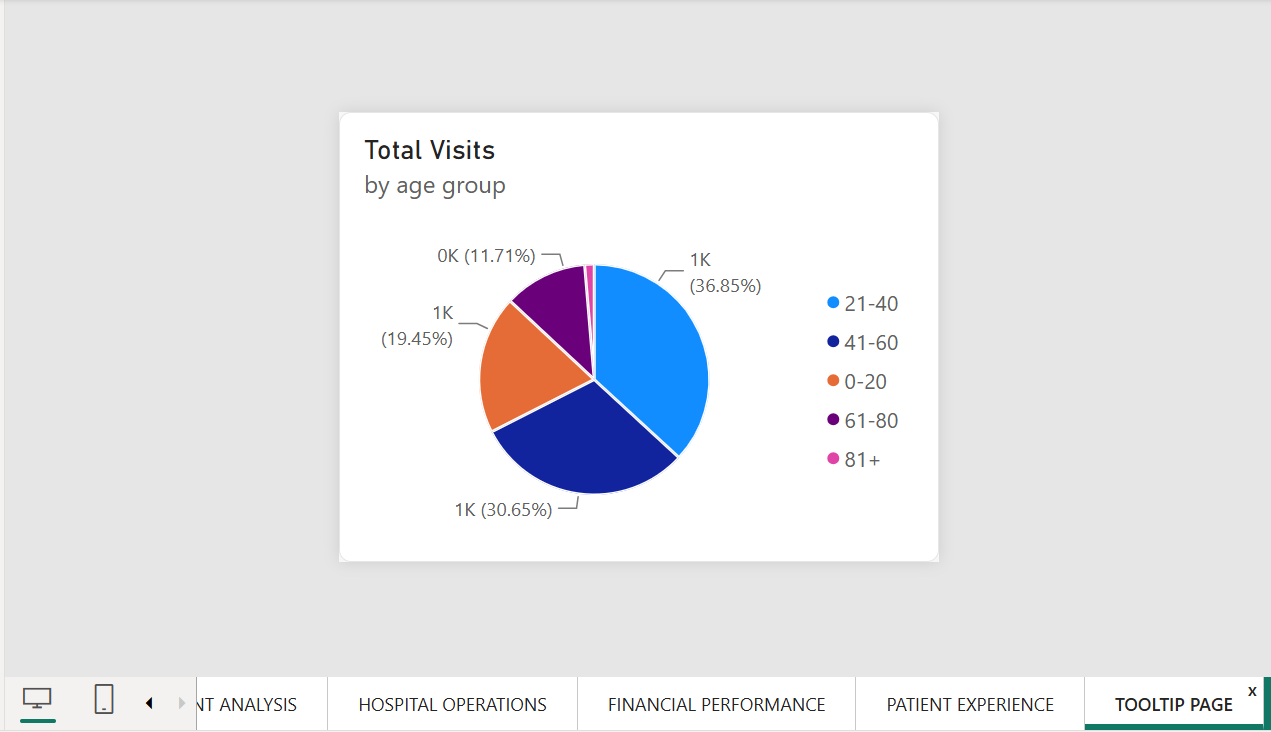

What the dashboard file says about the page in this screenshot:
{"tool":"powerbi","page":{"name":"TOOLTIP PAGE","canvas":[400,300],"ordinal":5},"visuals":[{"type":"pieChart","fields":{"Category":["Patient_Visits.age group"],"Y":["Patient_Visits.Total Visits"]},"box":[0,0,400,300],"z":0}]}

Visuals, with their boxes on the page's 400x300 design canvas (x1, y1, x2, y2). These are canvas units, not pixel positions in the 1271x732 screenshot, which may show the page scaled, cropped or inside an application window:
pieChart - Patient_Visits.age group x Patient_Visits.Total Visits: [left=0, top=0, right=400, bottom=300]
